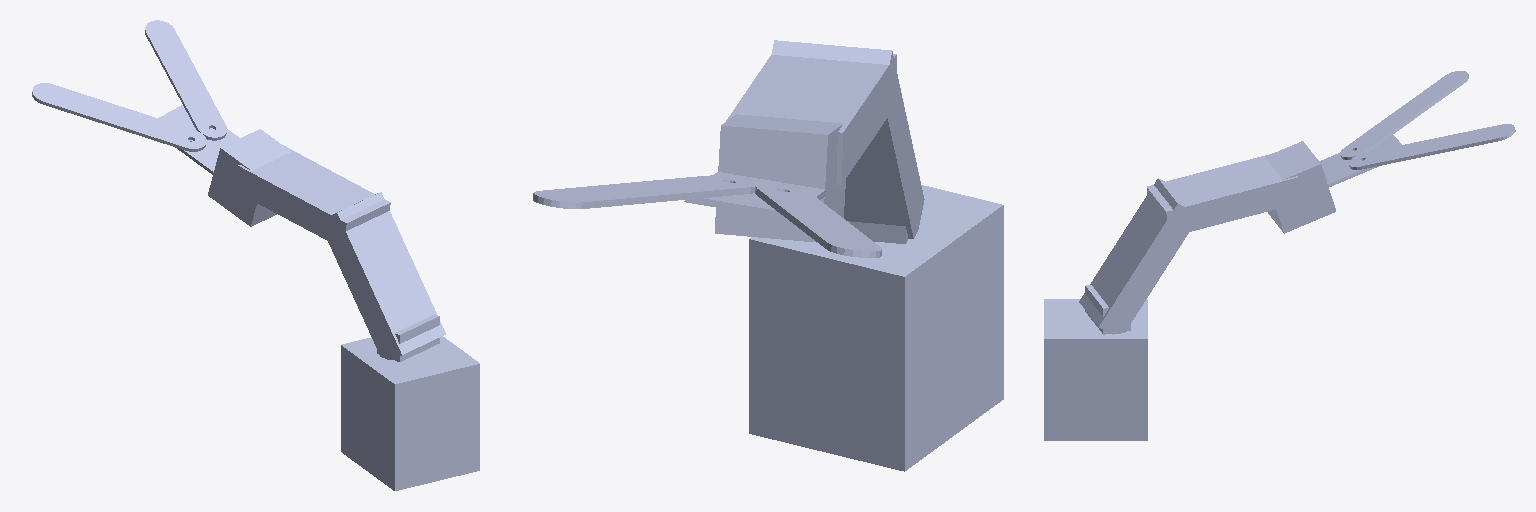
URDF robot description (BobertLimits):
<?xml version="1.0" encoding="utf-8"?>
<!-- This URDF was automatically created by SolidWorks to URDF Exporter! Originally created by [author] ([email redacted]) 
     Commit Version: 1.6.0-4-g7f85cfe  Build Version: 1.6.7995.38578
     For more information, please see http://wiki.ros.org/sw_urdf_exporter -->
<robot
  name="BobertLimits">
  <link
    name="base_link">
    <inertial>
      <origin
        xyz="0.041 0.045 0.049"
        rpy="0 0 0" />
      <mass
        value="0.72324" />
      <inertia
        ixx="0.00106702008"
        ixy="1.44108538759532E-19"
        ixz="-6.1033189982527E-36"
        iyy="0.00098408856"
        iyz="-5.5502882758546E-21"
        izz="0.00089344248" />
    </inertial>
    <visual>
      <origin
        xyz="0 0 0"
        rpy="0 0 0" />
      <geometry>
        <mesh
          filename="package://BobertLimits/meshes/base_link.STL" />
      </geometry>
      <material
        name="">
        <color
          rgba="0.792156862745098 0.819607843137255 0.933333333333333 1" />
      </material>
    </visual>
    <collision>
      <origin
        xyz="0 0 0"
        rpy="0 0 0" />
      <geometry>
        <mesh
          filename="package://BobertLimits/meshes/base_link.STL" />
      </geometry>
    </collision>
  </link>
  <link
    name="Servo_Link_1">
    <inertial>
      <origin
        xyz="0.000249999999999632 0.0125 2.42861286636753E-16"
        rpy="0 0 0" />
      <mass
        value="0.03125" />
      <inertia
        ixx="8.13802083333334E-06"
        ixy="-1.38867814673641E-22"
        ixz="-1.05879118406788E-22"
        iyy="8.13802083333334E-06"
        iyz="1.83961513767387E-22"
        izz="3.25520833333333E-06" />
    </inertial>
    <visual>
      <origin
        xyz="0 0 0"
        rpy="0 0 0" />
      <geometry>
        <mesh
          filename="package://BobertLimits/meshes/Servo_Link_1.STL" />
      </geometry>
      <material
        name="">
        <color
          rgba="0.792156862745098 0.819607843137255 0.933333333333333 1" />
      </material>
    </visual>
    <collision>
      <origin
        xyz="0 0 0"
        rpy="0 0 0" />
      <geometry>
        <mesh
          filename="package://BobertLimits/meshes/Servo_Link_1.STL" />
      </geometry>
    </collision>
  </link>
  <joint
    name="Servo_Joint_1"
    type="revolute">
    <origin
      xyz="0.045 0.055 0.098"
      rpy="1.5708 0 1.8902" />
    <parent
      link="base_link" />
    <child
      link="Servo_Link_1" />
    <axis
      xyz="0 1 0" />
    <limit
      lower="-1.57"
      upper="1.57"
      effort="0"
      velocity="0" />
  </joint>
  <link
    name="Servo_Link_2">
    <inertial>
      <origin
        xyz="0.0525 2.56739074444567E-16 1.38777878078145E-17"
        rpy="0 0 0" />
      <mass
        value="0.17875" />
      <inertia
        ixx="5.43697916666667E-05"
        ixy="8.470329472543E-21"
        ixz="3.89635155736978E-20"
        iyy="0.000261049479166666"
        iyz="1.35525271560688E-20"
        izz="0.000296799479166667" />
    </inertial>
    <visual>
      <origin
        xyz="0 0 0"
        rpy="0 0 0" />
      <geometry>
        <mesh
          filename="package://BobertLimits/meshes/Servo_Link_2.STL" />
      </geometry>
      <material
        name="">
        <color
          rgba="0.792156862745098 0.819607843137255 0.933333333333333 1" />
      </material>
    </visual>
    <collision>
      <origin
        xyz="0 0 0"
        rpy="0 0 0" />
      <geometry>
        <mesh
          filename="package://BobertLimits/meshes/Servo_Link_2.STL" />
      </geometry>
    </collision>
  </link>
  <joint
    name="Servo_Joint_2"
    type="revolute">
    <origin
      xyz="0 0.0125 0"
      rpy="1.5708 0 0.98026" />
    <parent
      link="Servo_Link_1" />
    <child
      link="Servo_Link_2" />
    <axis
      xyz="0 1 0" />
    <limit
      lower="-1.57"
      upper="1.57"
      effort="0"
      velocity="0" />
  </joint>
  <link
    name="Servo_Link_3">
    <inertial>
      <origin
        xyz="0.0484999999999999 -1.59594559789866E-16 1.38777878078145E-16"
        rpy="0 0 0" />
      <mass
        value="0.16775" />
      <inertia
        ixx="5.10239583333333E-05"
        ixy="2.37169225231204E-20"
        ixz="2.62580213648833E-20"
        iyy="0.000216802895833333"
        iyz="1.6940658945086E-21"
        izz="0.000250352895833333" />
    </inertial>
    <visual>
      <origin
        xyz="0 0 0"
        rpy="0 0 0" />
      <geometry>
        <mesh
          filename="package://BobertLimits/meshes/Servo_Link_3.STL" />
      </geometry>
      <material
        name="">
        <color
          rgba="0.792156862745098 0.819607843137255 0.933333333333333 1" />
      </material>
    </visual>
    <collision>
      <origin
        xyz="0 0 0"
        rpy="0 0 0" />
      <geometry>
        <mesh
          filename="package://BobertLimits/meshes/Servo_Link_3.STL" />
      </geometry>
    </collision>
  </link>
  <joint
    name="Servo_Joint_3"
    type="revolute">
    <origin
      xyz="0.105 0 0"
      rpy="-3.1416 -0.85218 0" />
    <parent
      link="Servo_Link_2" />
    <child
      link="Servo_Link_3" />
    <axis
      xyz="0 1 0" />
    <limit
      lower="-1.57"
      upper="1.57"
      effort="0"
      velocity="0" />
  </joint>
  <link
    name="Servo_Link_4">
    <inertial>
      <origin
        xyz="0.0125000000000005 -3.67761376907083E-16 0.0125000000000005"
        rpy="0 0 0" />
      <mass
        value="0.125" />
      <inertia
        ixx="5.20833333333333E-05"
        ixy="2.5410988417629E-21"
        ixz="-9.3173624197973E-21"
        iyy="5.20833333333333E-05"
        iyz="7.6232965252887E-21"
        izz="5.20833333333333E-05" />
    </inertial>
    <visual>
      <origin
        xyz="0 0 0"
        rpy="0 0 0" />
      <geometry>
        <mesh
          filename="package://BobertLimits/meshes/Servo_Link_4.STL" />
      </geometry>
      <material
        name="">
        <color
          rgba="0.792156862745098 0.819607843137255 0.933333333333333 1" />
      </material>
    </visual>
    <collision>
      <origin
        xyz="0 0 0"
        rpy="0 0 0" />
      <geometry>
        <mesh
          filename="package://BobertLimits/meshes/Servo_Link_4.STL" />
      </geometry>
    </collision>
  </link>
  <joint
    name="Servo_Joint_4"
    type="revolute">
    <origin
      xyz="0.097 0 0"
      rpy="-3.1416 -0.15815 0" />
    <parent
      link="Servo_Link_3" />
    <child
      link="Servo_Link_4" />
    <axis
      xyz="0 1 0" />
    <limit
      lower="-1.57"
      upper="1.57"
      effort="0"
      velocity="0" />
  </joint>
  <link
    name="Servo_Link_5">
    <inertial>
      <origin
        xyz="2.77555756156289E-17 -8.32667268468867E-17 -0.0455485642329055"
        rpy="0 0 0" />
      <mass
        value="0.0122400231173083" />
      <inertia
        ixx="5.9571570750398E-06"
        ixy="1.32348898008484E-21"
        ixz="1.24407964127975E-20"
        iyy="8.58180385971075E-06"
        iyz="-7.6232965252887E-21"
        izz="2.64521129851044E-06" />
    </inertial>
    <visual>
      <origin
        xyz="0 0 0"
        rpy="0 0 0" />
      <geometry>
        <mesh
          filename="package://BobertLimits/meshes/Servo_Link_5.STL" />
      </geometry>
      <material
        name="">
        <color
          rgba="0.792156862745098 0.819607843137255 0.933333333333333 1" />
      </material>
    </visual>
    <collision>
      <origin
        xyz="0 0 0"
        rpy="0 0 0" />
      <geometry>
        <mesh
          filename="package://BobertLimits/meshes/Servo_Link_5.STL" />
      </geometry>
    </collision>
  </link>
  <joint
    name="Servo_Joint_5"
    type="revolute">
    <origin
      xyz="0.030051 0 0.0125"
      rpy="-1.5708 0.07747 1.5708" />
    <parent
      link="Servo_Link_4" />
    <child
      link="Servo_Link_5" />
    <axis
      xyz="0 0 1" />
    <limit
      lower="-1.57"
      upper="1.57"
      effort="0"
      velocity="0" />
  </joint>
  <link
    name="End_Effector_Link">
    <inertial>
      <origin
        xyz="0.0368160588340452 0.00317499999999993 -0.0458585223703533"
        rpy="0 0 0" />
      <mass
        value="0.0235003229615022" />
      <inertia
        ixx="2.91780359103134E-05"
        ixy="-2.20228566286118E-20"
        ixz="9.84316018531001E-06"
        iyy="4.32505953510363E-05"
        iyz="3.44636530414093E-20"
        izz="1.41120424312485E-05" />
    </inertial>
    <visual>
      <origin
        xyz="0 0 0"
        rpy="0 0 0" />
      <geometry>
        <mesh
          filename="package://BobertLimits/meshes/End_Effector_Link.STL" />
      </geometry>
      <material
        name="">
        <color
          rgba="0.792156862745098 0.819607843137255 0.933333333333333 1" />
      </material>
    </visual>
    <collision>
      <origin
        xyz="0 0 0"
        rpy="0 0 0" />
      <geometry>
        <mesh
          filename="package://BobertLimits/meshes/End_Effector_Link.STL" />
      </geometry>
    </collision>
  </link>
  <joint
    name="End_Effector_Joint"
    type="revolute">
    <origin
      xyz="-0.0127 0 -0.045549"
      rpy="0 0.45879 0" />
    <parent
      link="Servo_Link_5" />
    <child
      link="End_Effector_Link" />
    <axis
      xyz="0 1 0" />
    <limit
      lower="-1.57"
      upper="1.57"
      effort="0"
      velocity="0" />
  </joint>
</robot>

--- Render facts (derived) ---
3 views of the same robot in one strip: view 1: azimuth 30°, elevation 25°; view 2: azimuth 150°, elevation 25°; view 3: azimuth 270°, elevation 25° (orthographic).
Robot: BobertLimits — 7 links, 6 joints (6 revolute); root link base_link; default pose: all joints at 0.
Links seen in each view (by area): view 1: base_link, Servo_Link_2, End_Effector_Link, Servo_Link_3, Servo_Link_4, Servo_Link_5, Servo_Link_1; view 2: base_link, Servo_Link_3, Servo_Link_4, Servo_Link_2, End_Effector_Link, Servo_Link_5, Servo_Link_1; view 3: base_link, Servo_Link_2, Servo_Link_3, End_Effector_Link, Servo_Link_4, Servo_Link_5.
Link boxes in pixels (bbox=[...]): base_link: bbox=[341, 336, 479, 490]; Servo_Link_2: bbox=[320, 192, 445, 359]; End_Effector_Link: bbox=[32, 20, 226, 151]; Servo_Link_3: bbox=[235, 145, 390, 239]; Servo_Link_4: bbox=[208, 129, 290, 226]; Servo_Link_5: bbox=[159, 105, 239, 174]; Servo_Link_1: bbox=[377, 314, 439, 361]; base_link: bbox=[749, 185, 1003, 471]; Servo_Link_3: bbox=[726, 54, 896, 184]; Servo_Link_4: bbox=[715, 114, 845, 242]; Servo_Link_2: bbox=[771, 40, 924, 238]; End_Effector_Link: bbox=[533, 175, 881, 257]; Servo_Link_5: bbox=[684, 172, 825, 218]; Servo_Link_1: bbox=[848, 221, 907, 243]; base_link: bbox=[1044, 299, 1147, 440]; Servo_Link_2: bbox=[1079, 178, 1199, 334]; Servo_Link_3: bbox=[1147, 153, 1301, 236]; End_Effector_Link: bbox=[1340, 71, 1515, 169]; Servo_Link_4: bbox=[1265, 141, 1335, 233]; Servo_Link_5: bbox=[1319, 135, 1401, 186].
Bounding box of the posed robot: 0.222 × 0.4095 × 0.265 m (x, y, z).
7 mesh visuals loaded from 7 distinct referenced files (7 binary STL).
